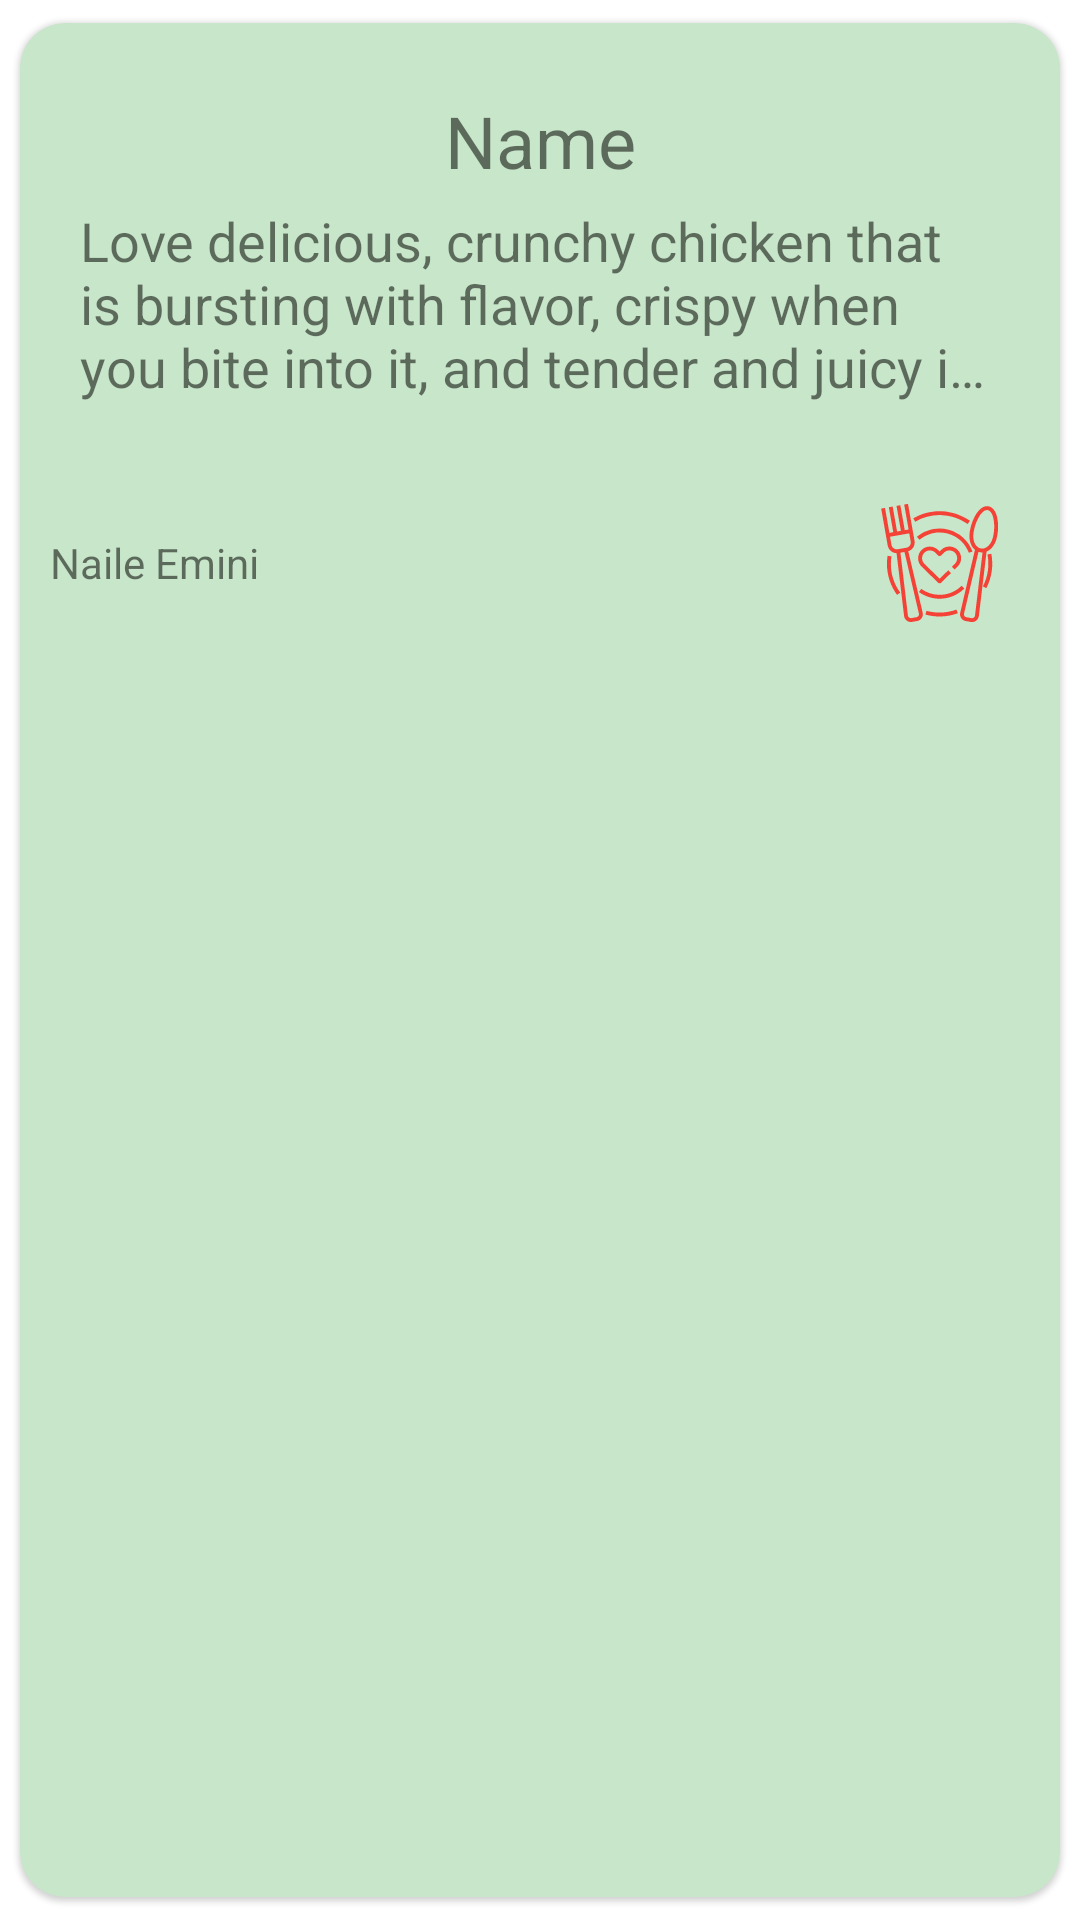

Named icons in this screenshot (1080 x 1920) and their bounding boxes, (x1, y1, x2, y2):
favorite: (881, 504, 998, 622)
